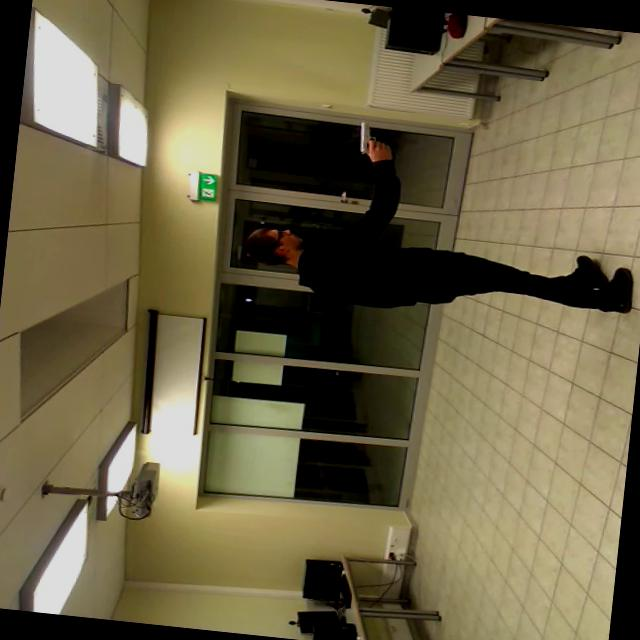handgun: (352, 116, 398, 160)
